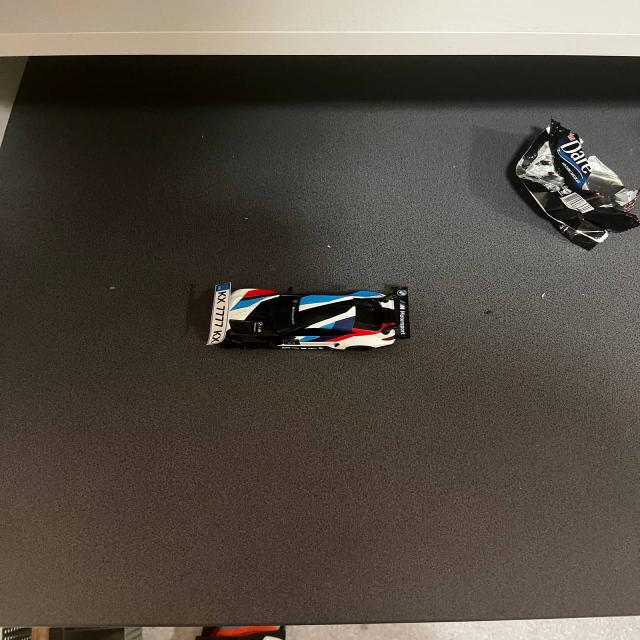KX 7777 KX: (209, 282, 233, 342)
